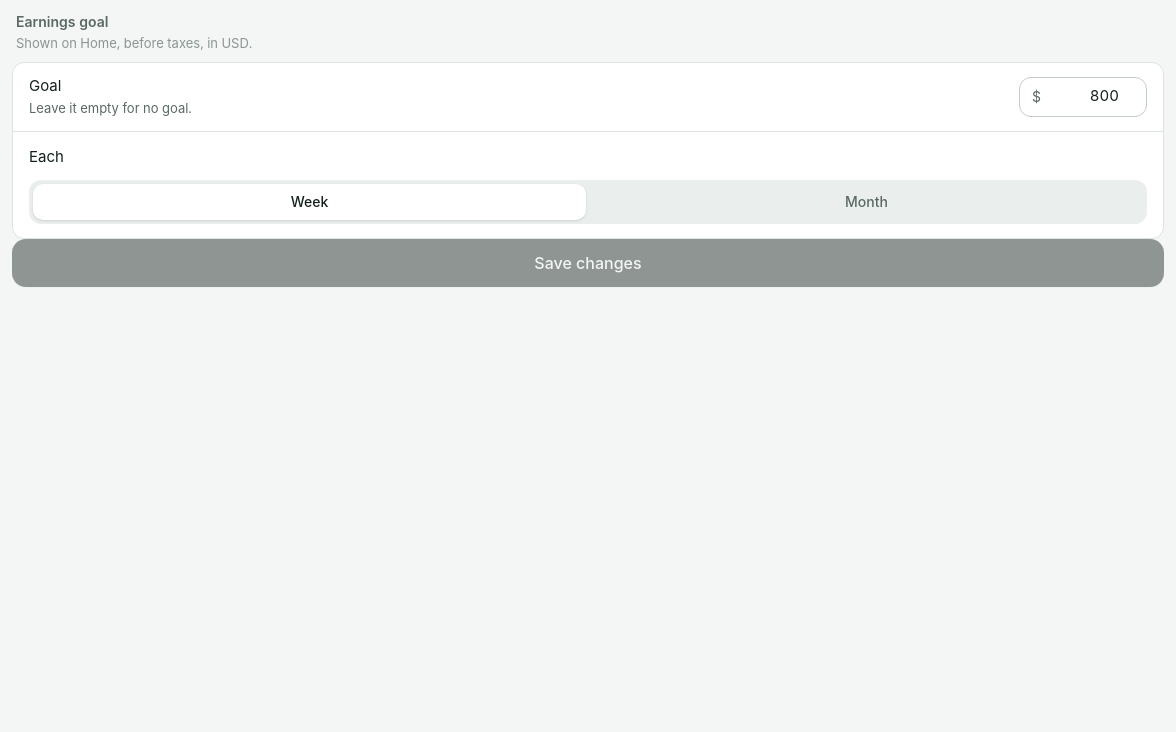
Test case: Settings save bar › going back to the saved value leaves nothing to save
The image size is (1176, 732).
Click the radio button labelled "Month".
click(866, 202)  # box [590,184,1143,220]
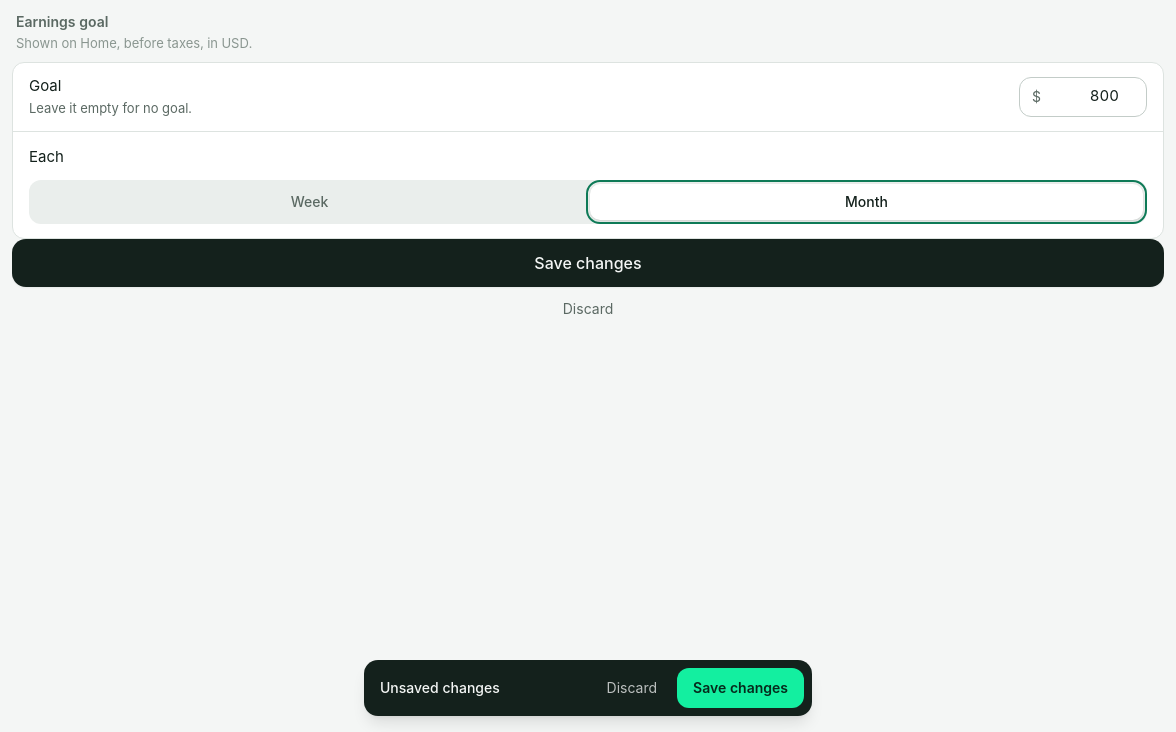
Click the radio button labelled "Week".
click(310, 202)  # box [33,184,586,220]
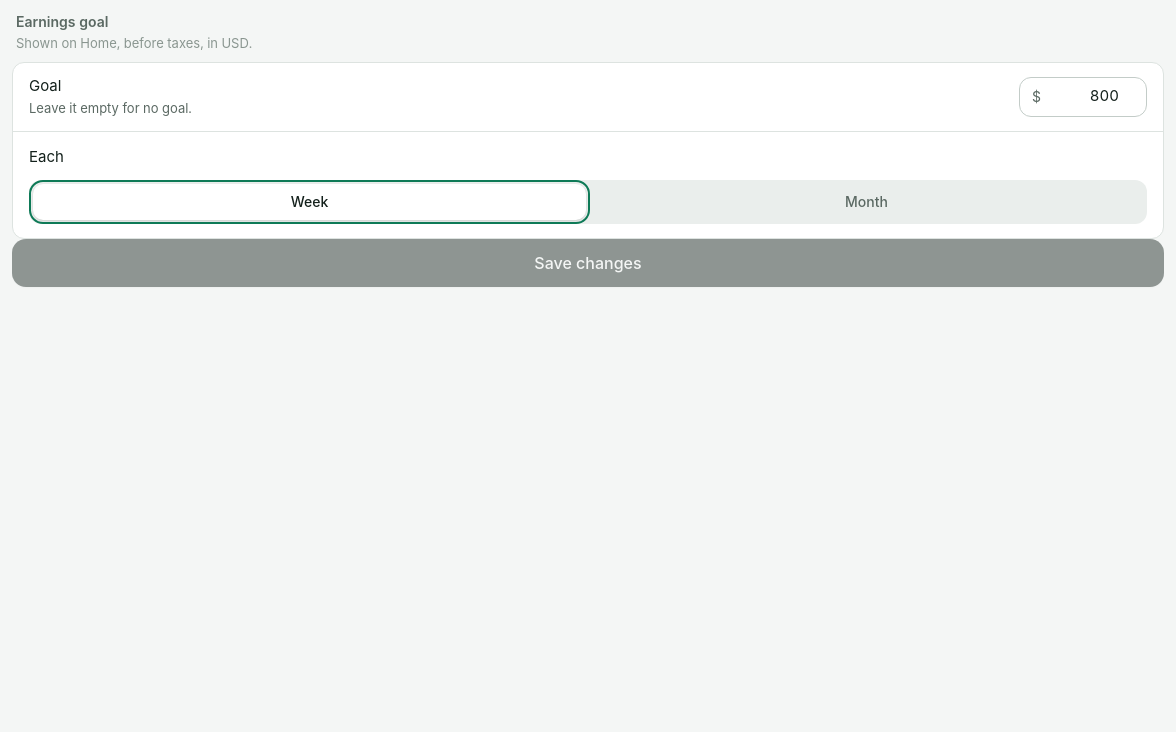
Expected: the text "Unsaved changes" is gone
Expected: the button "Save changes" is disabled, [12,239,1164,287]
